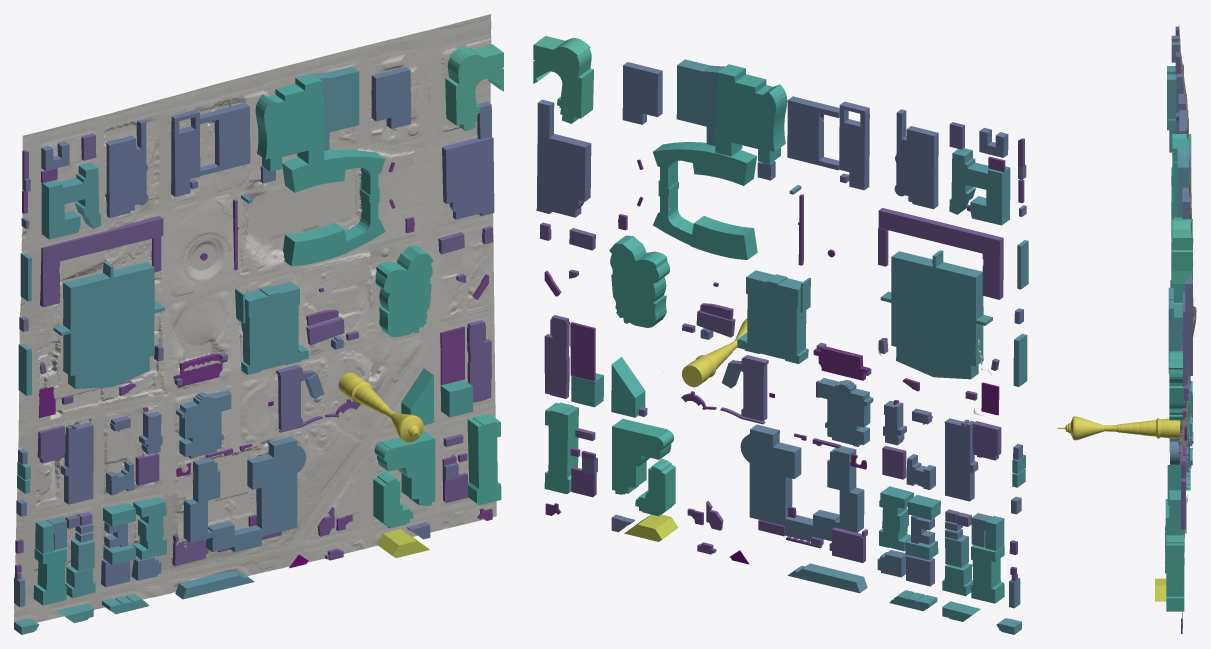
File: seattle_center_lod1.glb
3 renders of one model, left to right at view 1: azimuth 30°, elevation 25°; view 2: azimuth 150°, elevation 25°; view 3: azimuth 270°, elevation 25°, orthographic. The views are drawn at different scales.
Visible parts, largest first — view 1: terrain, bldg_3_Climate Pledge Arena, bldg_98_Pacific Science Center, bldg_127_nan, bldg_125_McCaw Hall, bldg_90_Seattle Center Armory, bldg_56_MoPOP: Museum of Pop Culture, bldg_53_5th Avenue Garage, bldg_133_nan, bldg_24_Expo, bldg_2_Northwest Rooms, bldg_117_Seattle Repertory Theatre (+28 smaller); view 2: bldg_3_Climate Pledge Arena, bldg_98_Pacific Science Center, bldg_127_nan, bldg_125_McCaw Hall, bldg_90_Seattle Center Armory, bldg_56_MoPOP: Museum of Pop Culture, bldg_53_5th Avenue Garage, bldg_2_Northwest Rooms, bldg_133_nan, bldg_117_Seattle Repertory Theatre, bldg_24_Expo, bldg_60_KOMO Plaza East (+29 smaller); view 3: bldg_81_Space Needle, bldg_69_The Century, bldg_133_nan, terrain, bldg_56_MoPOP: Museum of Pop Culture, bldg_129_Seattle Opera at the Center, bldg_90_Seattle Center Armory, bldg_125_McCaw Hall, bldg_53_5th Avenue Garage, bldg_24_Expo, bldg_60_KOMO Plaza East, bldg_57_Hyatt House (+9 smaller).
Boxes of the visible parts, bbox=[...] form: terrain: bbox=[14, 14, 496, 622]; bldg_3_Climate Pledge Arena: bbox=[53, 261, 164, 388]; bldg_98_Pacific Science Center: bbox=[183, 436, 306, 552]; bldg_127_nan: bbox=[282, 149, 385, 266]; bldg_125_McCaw Hall: bbox=[255, 73, 324, 171]; bldg_90_Seattle Center Armory: bbox=[241, 282, 308, 374]; bldg_56_MoPOP: Museum of Pop Culture: bbox=[375, 245, 433, 337]; bldg_53_5th Avenue Garage: bbox=[442, 137, 494, 219]; bldg_133_nan: bbox=[445, 44, 503, 131]; bldg_24_Expo: bbox=[41, 162, 101, 239]; bldg_2_Northwest Rooms: bbox=[40, 216, 163, 307]; bldg_117_Seattle Repertory Theatre: bbox=[105, 119, 148, 217]; bldg_3_Climate Pledge Arena: bbox=[880, 250, 992, 379]; bldg_98_Pacific Science Center: bbox=[740, 424, 864, 541]; bldg_127_nan: bbox=[653, 142, 757, 259]; bldg_125_McCaw Hall: bbox=[715, 64, 787, 163]; bldg_90_Seattle Center Armory: bbox=[737, 270, 808, 363]; bldg_56_MoPOP: Museum of Pop Culture: bbox=[609, 235, 669, 327]; bldg_53_5th Avenue Garage: bbox=[536, 133, 591, 217]; bldg_2_Northwest Rooms: bbox=[878, 208, 1003, 299]; bldg_133_nan: bbox=[533, 36, 593, 123]; bldg_117_Seattle Repertory Theatre: bbox=[894, 109, 938, 209]; bldg_24_Expo: bbox=[949, 148, 1010, 225]; bldg_60_KOMO Plaza East: bbox=[612, 419, 674, 494]; bldg_81_Space Needle: bbox=[1057, 416, 1180, 440]; bldg_69_The Century: bbox=[1166, 535, 1184, 611]; bldg_133_nan: bbox=[1172, 219, 1192, 283]; terrain: bbox=[1178, 25, 1196, 632]; bldg_56_MoPOP: Museum of Pop Culture: bbox=[1169, 351, 1186, 420]; bldg_129_Seattle Opera at the Center: bbox=[1177, 148, 1191, 215]; bldg_90_Seattle Center Armory: bbox=[1168, 287, 1182, 373]; bldg_125_McCaw Hall: bbox=[1172, 134, 1191, 217]; bldg_53_5th Avenue Garage: bbox=[1183, 292, 1192, 375]; bldg_24_Expo: bbox=[1167, 66, 1176, 130]; bldg_60_KOMO Plaza East: bbox=[1165, 499, 1183, 572]; bldg_57_Hyatt House: bbox=[1167, 465, 1180, 505].
Bounding box in the file's own units: 700 × 700 × 208.
